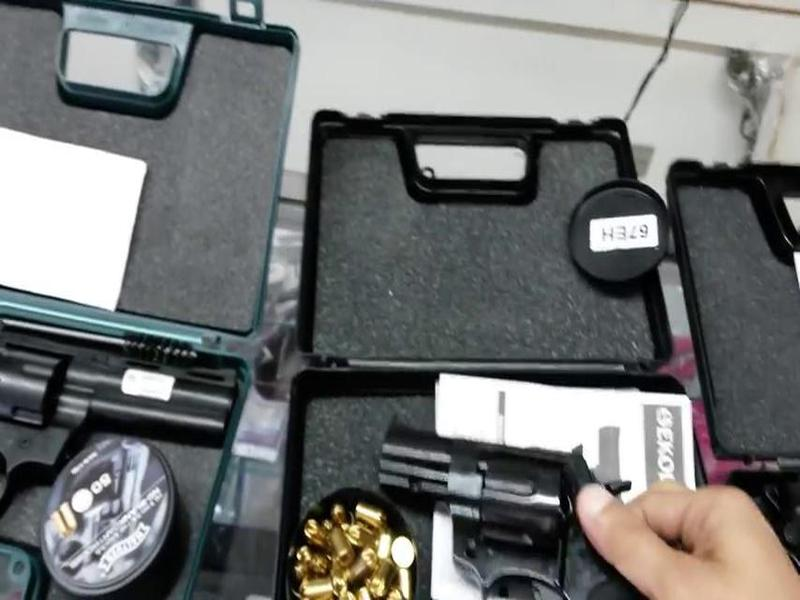Revolver: (364, 416, 618, 600)
